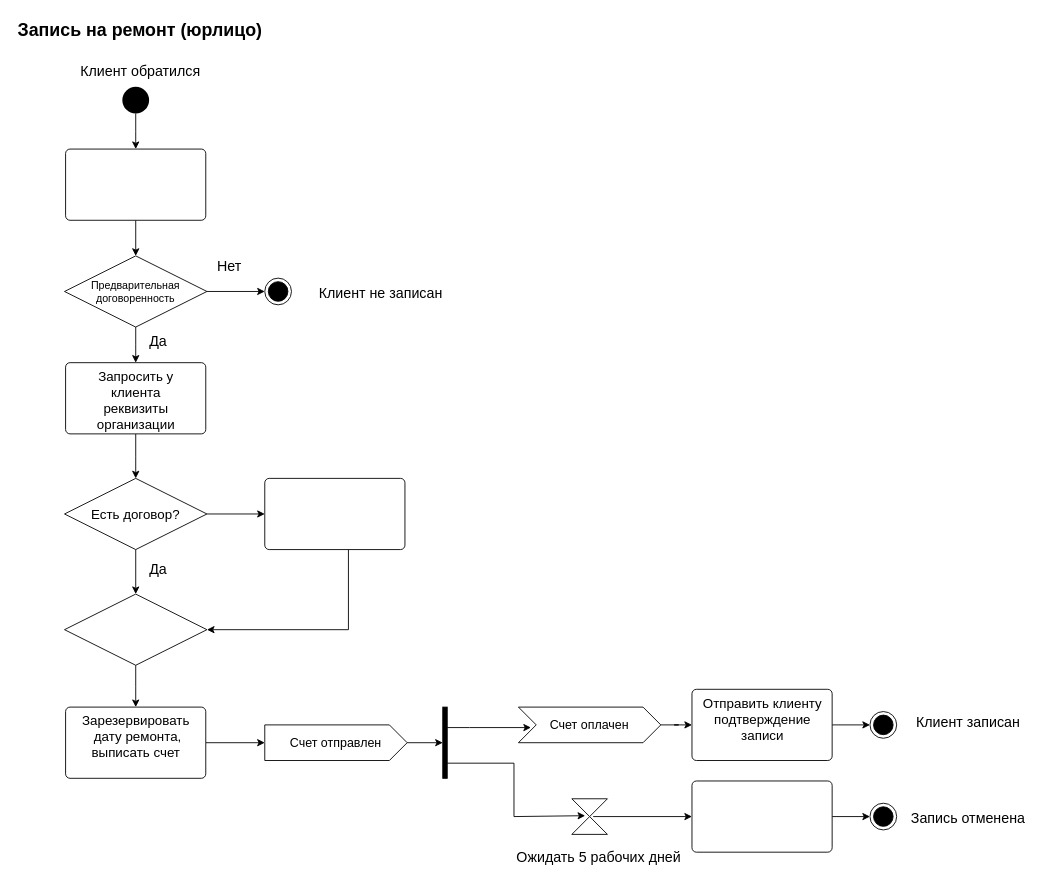
Image size: 1049x885. Some labels were removed from this diagram. The shapes that lost their labels are listed below. From the top down, each one's centre as x and y in pixels, then its label:
At [135,184]: "Уточнить у клиента перечень работ".
At [334,513]: "Заключить договор на ремонт".
At [761,816]: "Отмена записи".
